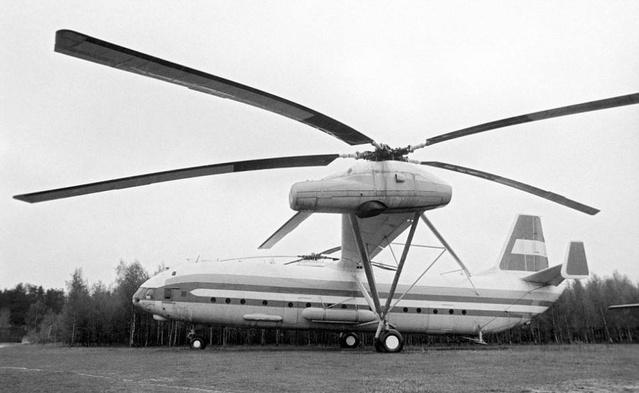airplane: (24, 26, 634, 333)
